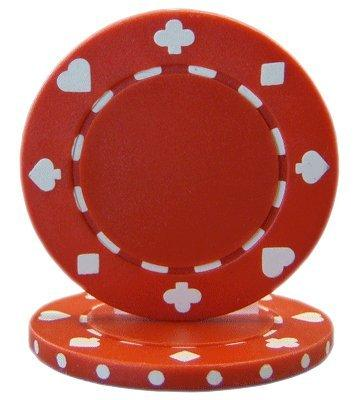chip-red: (21, 10, 338, 320), (31, 294, 331, 389)
